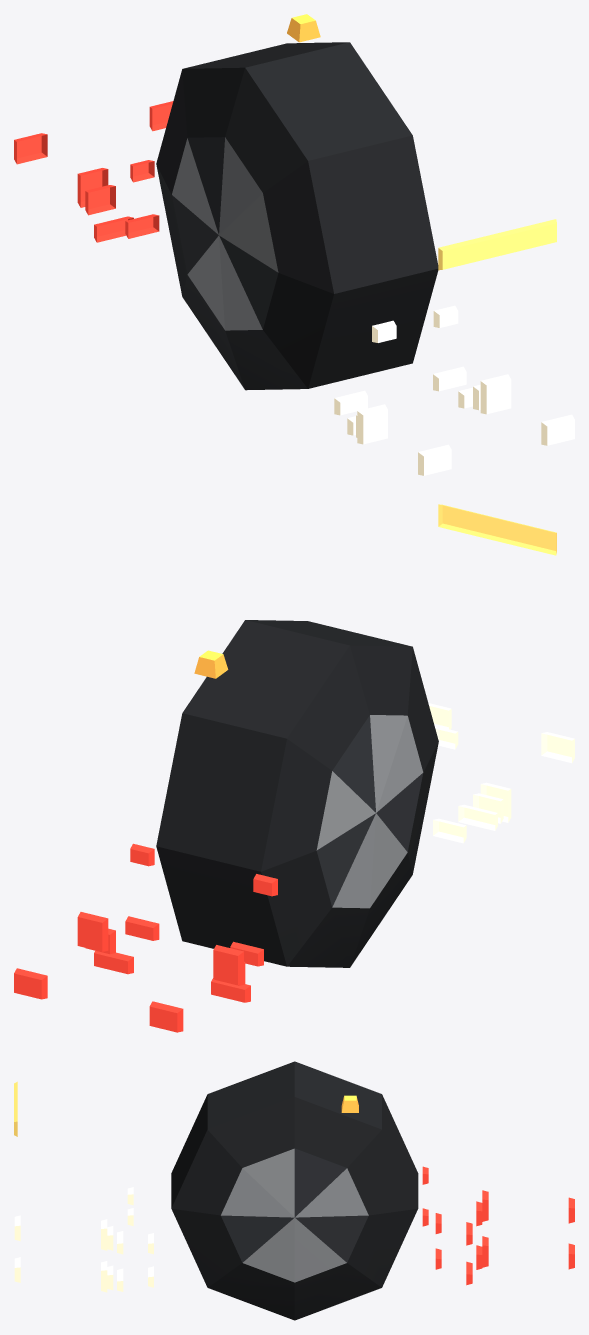
File: vehicle-parts.glb
The picture shows the model from 3 angles, top to bottom: view 1: azimuth 30°, elevation 25°; view 2: azimuth 150°, elevation 25°; view 3: azimuth 270°, elevation 25°; orthographic projection. The views are drawn at different scales.
Parts seen in each view (by area): view 1: Wheel, LampsBus, LampsVan, LampsTractor, LampsHatchback, LampsSedan, LampsPickup; view 2: Wheel, LampsBus, LampsVan, LampsSedan, LampsTractor, LampsHatchback, LampsPickup; view 3: Wheel, LampsBus, LampsVan, LampsTractor, LampsPickup, LampsSedan, LampsHatchback.
Part boxes in pixels (x1,y1,x2,y2): Wheel: (156,42,438,390); LampsBus: (14,101,574,475); LampsVan: (77,168,511,444); LampsTractor: (130,14,458,342); LampsHatchback: (125,214,466,415); LampsSedan: (94,216,472,435); LampsPickup: (85,185,480,437); Wheel: (156,620,438,967); LampsBus: (14,504,574,1032); LampsVan: (77,782,511,984); LampsSedan: (94,804,497,1002); LampsTractor: (130,650,458,896); LampsHatchback: (125,818,466,966); LampsPickup: (85,793,503,985); Wheel: (171,1061,418,1320); LampsBus: (14,1081,574,1282); LampsVan: (101,1190,488,1292); LampsTractor: (127,1095,428,1226); LampsPickup: (107,1201,482,1290); LampsSedan: (117,1222,472,1291); LampsHatchback: (148,1213,441,1287).
Size of the model in its own units: 1.08 by 2 by 4.55.
